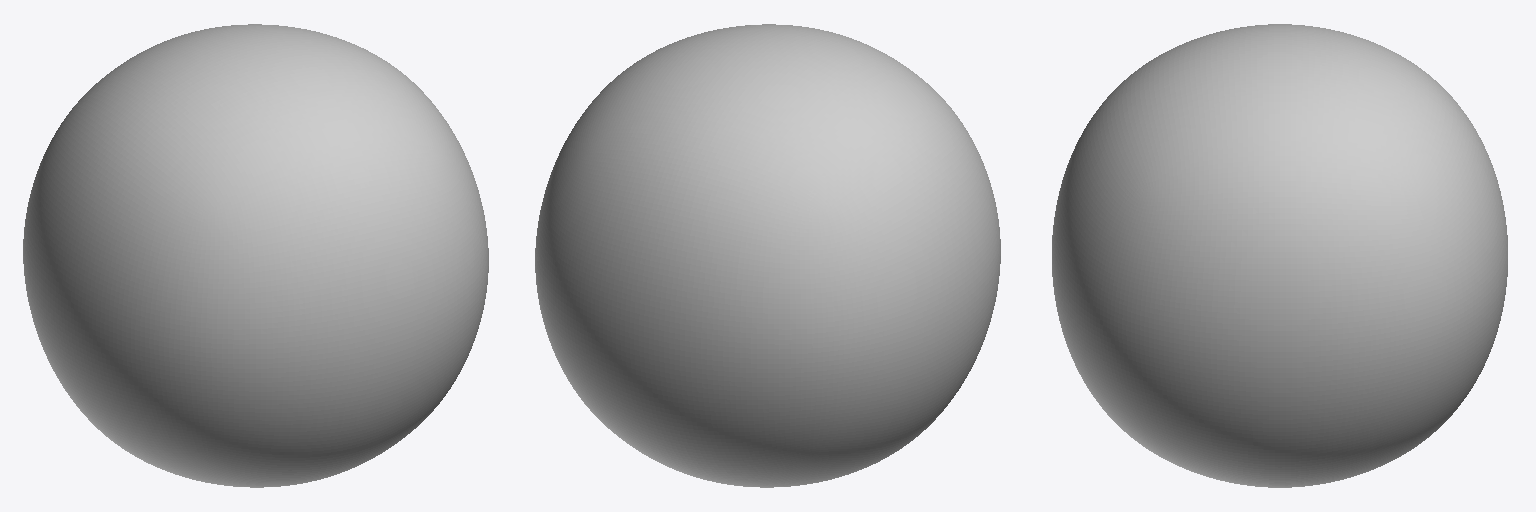
The model's file is ball.obj.
3 views of the same model, side by side, from view 1: azimuth 30°, elevation 25°; view 2: azimuth 150°, elevation 25°; view 3: azimuth 270°, elevation 25° (orthographic).
Parts seen in each view (by area): view 1: Cube; view 2: Cube; view 3: Cube.
Part boxes in pixels (x1,y1,x2,y2): Cube: (23, 24, 488, 487); Cube: (535, 24, 1000, 487); Cube: (1052, 24, 1507, 487).
Size of the model in its own units: 1.68 by 1.68 by 1.68.